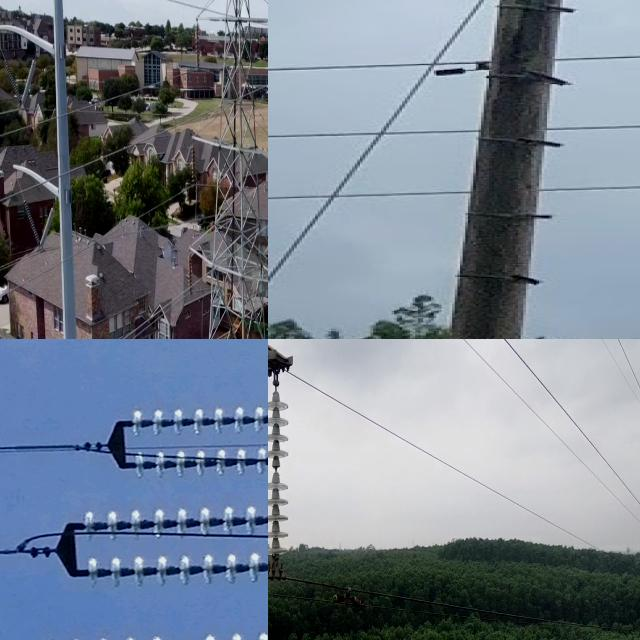杆塔: (290, 0, 640, 339), (189, 0, 268, 339)
正常电缆: (278, 353, 626, 578), (452, 339, 640, 534), (491, 339, 640, 520)
正常绝缘子: (74, 503, 268, 541), (80, 548, 268, 587), (119, 399, 268, 434), (268, 371, 293, 571), (119, 445, 268, 476), (0, 42, 26, 119), (14, 49, 41, 122), (18, 192, 46, 256), (34, 195, 60, 260), (192, 15, 204, 73), (186, 139, 198, 193), (187, 250, 195, 300)
绝缘子破损: (271, 462, 281, 478)
